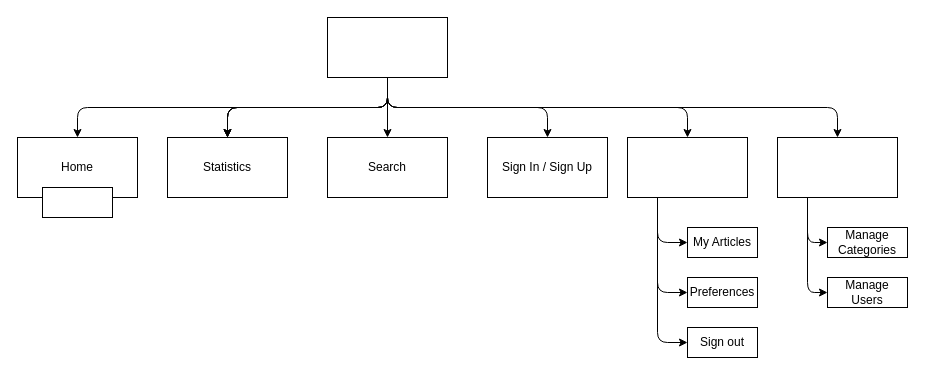
The diagram is 925 pixels wide and 375 high, and some of its shapes have lost their labels. The shapes that lost their labels are listed below. From the top down, each one's centre as x and y in pixels, then its label:
At (387,47): "L'IMTox".
At (687,167): "My Account".
At (837,167): "Admin".
At (77,202): "Top 5".
